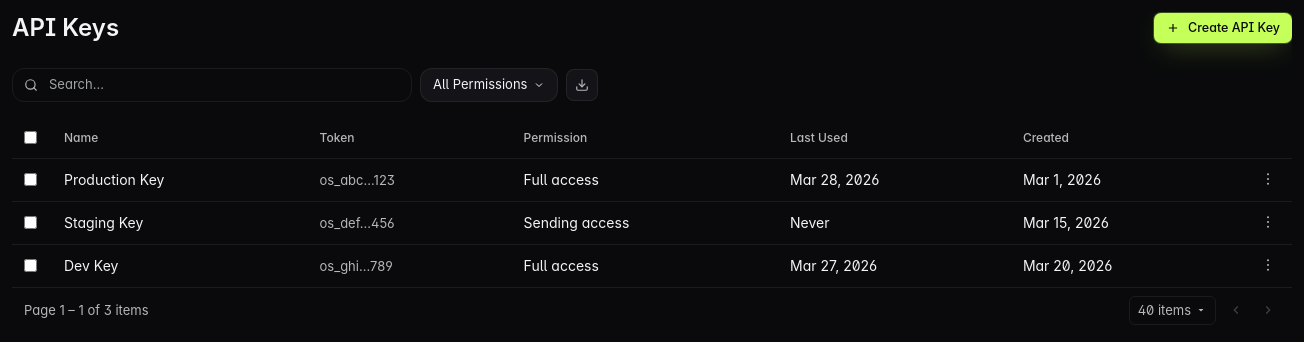
API Keys List Page › filters by search term on name
Type "Production" into the field with placeholder "Search..." at (212, 85), box [12,68,412,102]
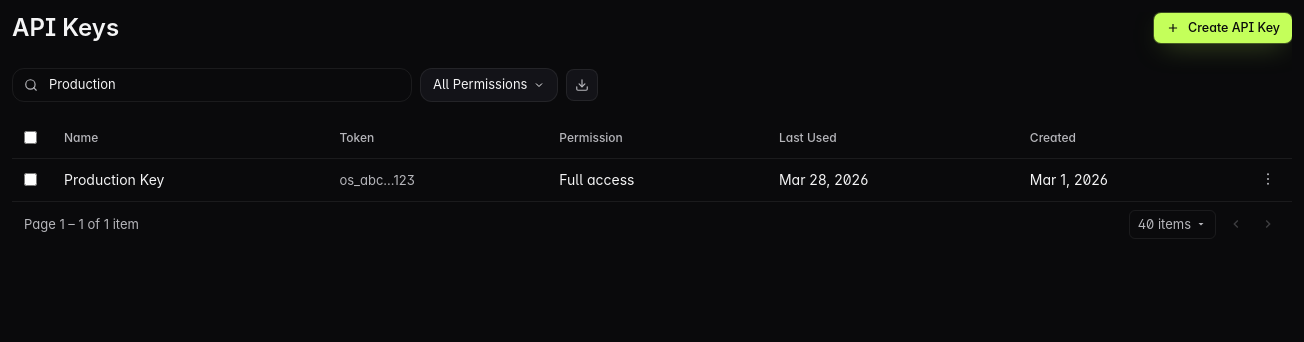
Expected: the button "Production Key" is shown, [64,169,164,190]
Result: the button "Staging Key" is gone
Result: the button "Dev Key" is gone
